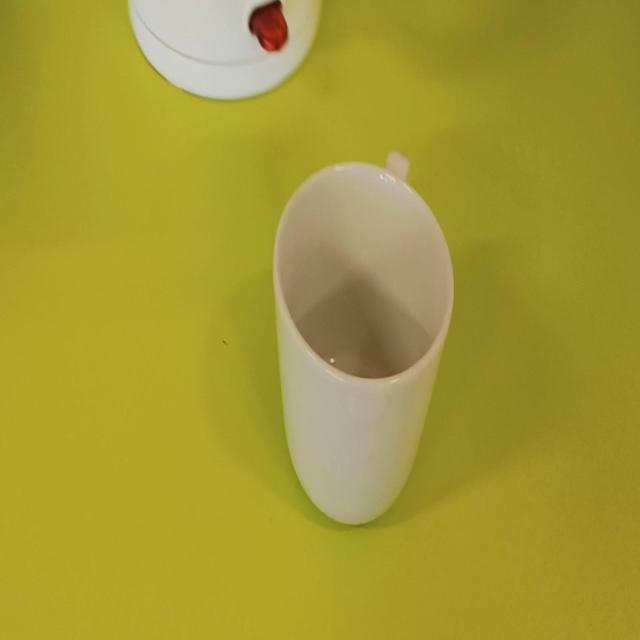cup: (268, 144, 456, 530)
